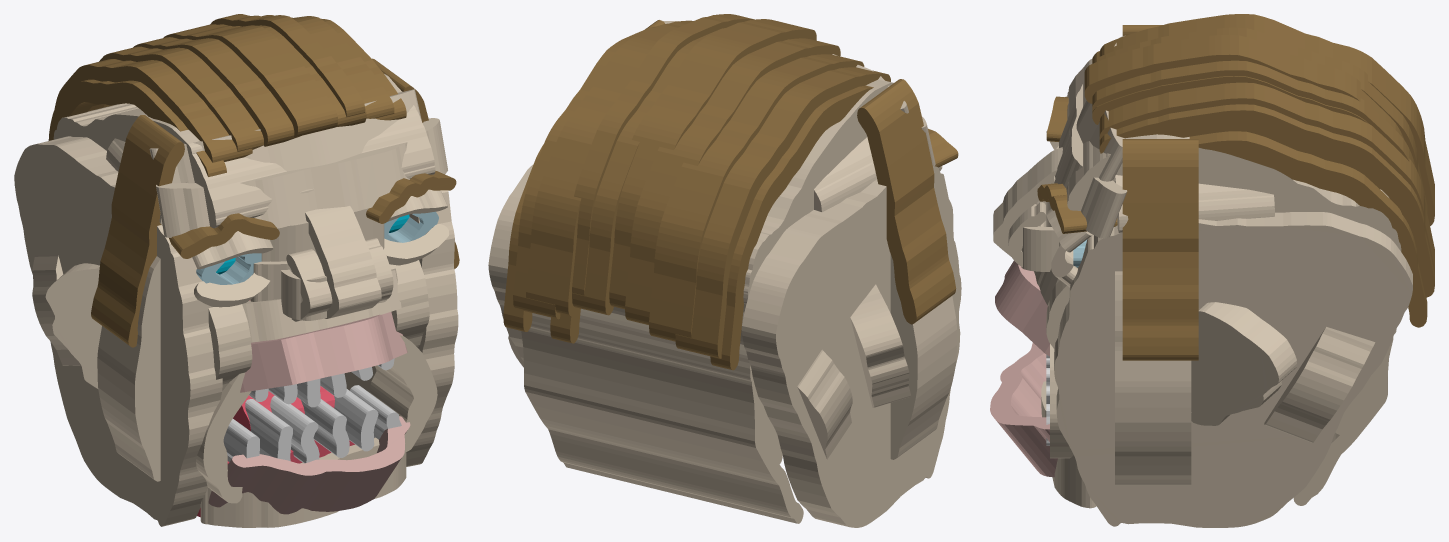
Rendered from arnold.glb.
3 renders of one model, left to right at view 1: azimuth 30°, elevation 25°; view 2: azimuth 150°, elevation 25°; view 3: azimuth 270°, elevation 25°, orthographic. The views are drawn at different scales.
Parts seen in each view (by area): view 1: Mesh_Mesh_head_geo.001_lambert2SG.001; view 2: Mesh_Mesh_head_geo.001_lambert2SG.001; view 3: Mesh_Mesh_head_geo.001_lambert2SG.001.
Boxes of the visible parts, x1,y1,x2,y2 form: Mesh_Mesh_head_geo.001_lambert2SG.001: (14, 14, 459, 527); Mesh_Mesh_head_geo.001_lambert2SG.001: (488, 14, 961, 527); Mesh_Mesh_head_geo.001_lambert2SG.001: (990, 14, 1434, 527).
Size of the model in its own units: 0.124 by 0.1361 by 0.129.
